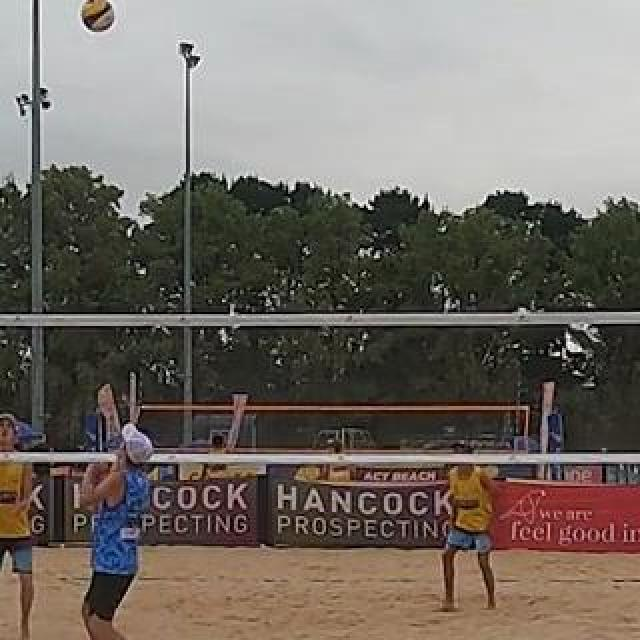volleyball: (83, 0, 115, 32)
